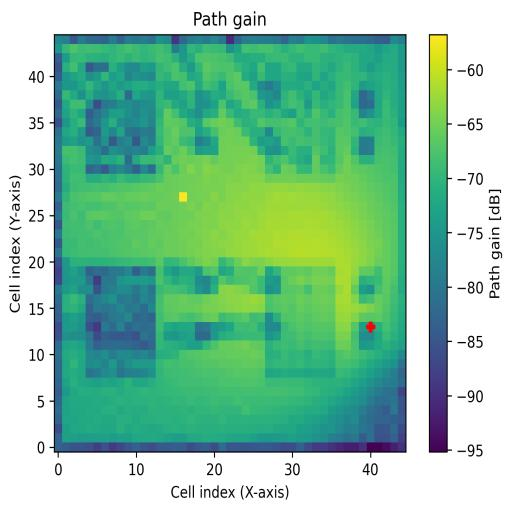Concrete: (264, 62, 336, 172)
Glass: (86, 61, 156, 174)
Metal: (265, 265, 335, 380)
Wood: (84, 267, 155, 380)
